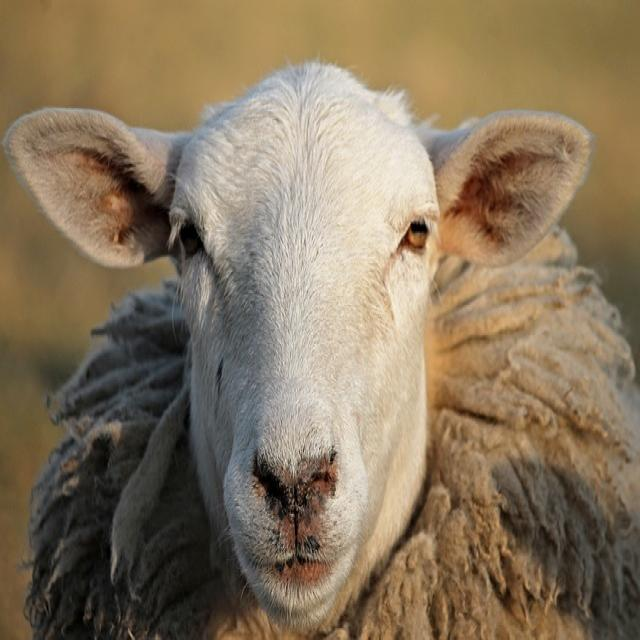sheep: (3, 57, 629, 637)
